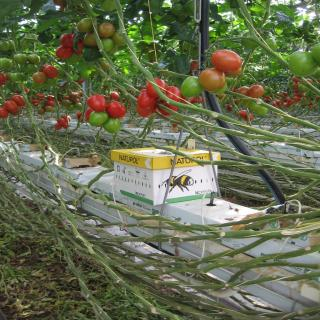tomato: (74, 18, 124, 62), (288, 48, 320, 76), (213, 48, 242, 70), (199, 68, 225, 90), (180, 76, 199, 96), (88, 94, 106, 113), (137, 89, 156, 107), (108, 100, 126, 118), (158, 98, 177, 115), (54, 44, 74, 60), (146, 78, 165, 94), (308, 43, 320, 68), (90, 112, 109, 126), (162, 86, 180, 100), (61, 34, 77, 48), (103, 118, 119, 132), (249, 85, 266, 98), (136, 105, 156, 116), (45, 67, 59, 79), (5, 100, 18, 112), (0, 55, 12, 67), (31, 72, 45, 82), (10, 96, 25, 105), (16, 52, 27, 63), (0, 72, 8, 87), (21, 64, 41, 70), (237, 88, 248, 96), (0, 106, 7, 118), (12, 74, 26, 80), (28, 54, 38, 62)
